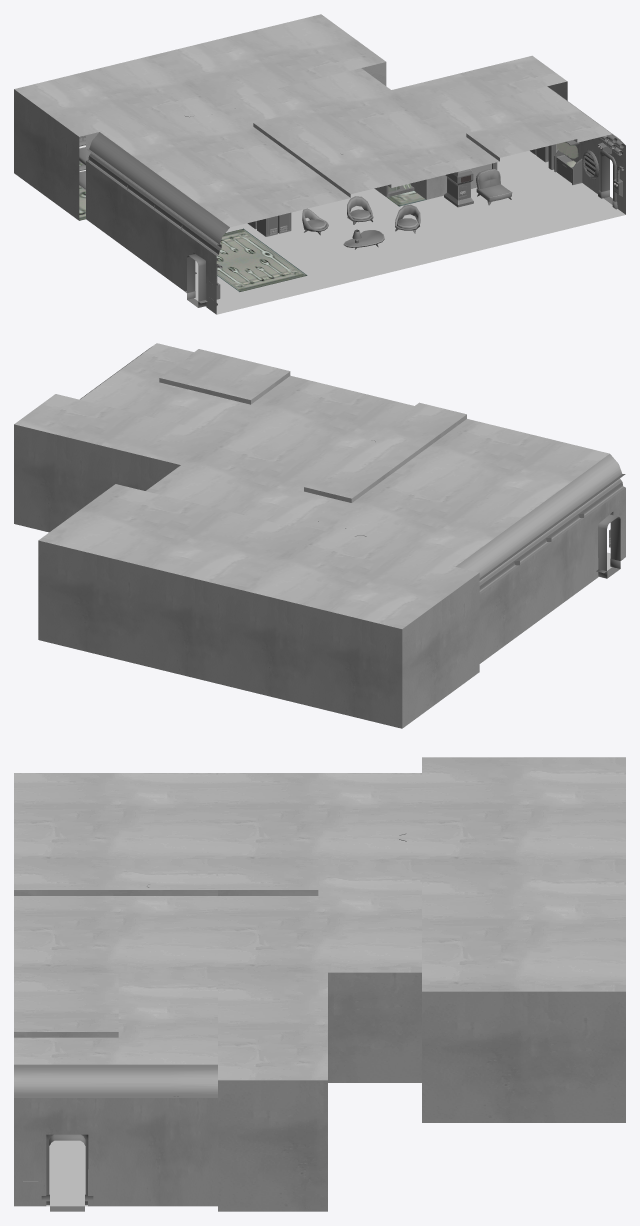
The model's file is MSH_living_quarters_L2_R3_optimized.fbx.
The picture shows the model from 3 angles, top to bottom: view 1: azimuth 30°, elevation 25°; view 2: azimuth 150°, elevation 25°; view 3: azimuth 270°, elevation 25°; orthographic projection. The views are drawn at different scales.
Visible parts, largest first — view 1: lightmap0, lightmap1, MSH_living_quarters_L2_R3_door; view 2: lightmap0, MSH_living_quarters_L2_R3_door; view 3: lightmap0.
Part boxes in pixels (<box>): lightmap0: <box>14,14,625,314</box>; lightmap1: <box>79,108,624,299</box>; MSH_living_quarters_L2_R3_door: <box>187,154,612,307</box>; lightmap0: <box>14,343,625,728</box>; MSH_living_quarters_L2_R3_door: <box>598,514,620,578</box>; lightmap0: <box>14,757,625,1211</box>.
Bounding box in the file's own units: 30.91 × 6.17 × 24.77.
